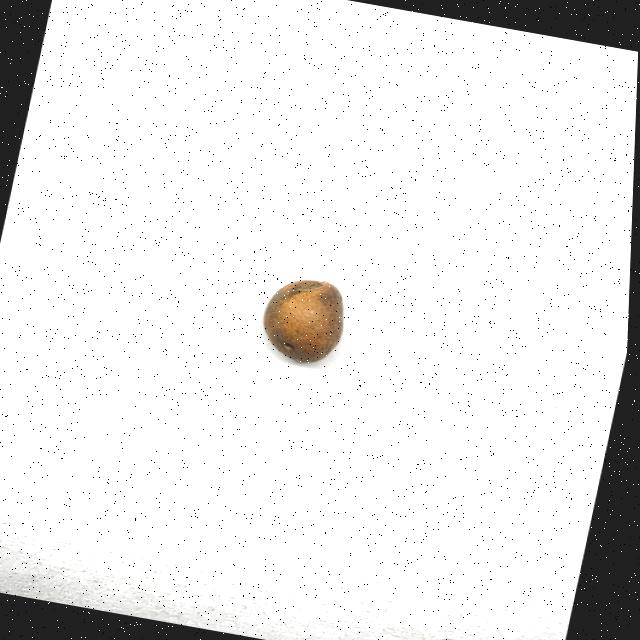Insect damage: (256, 270, 355, 369)
